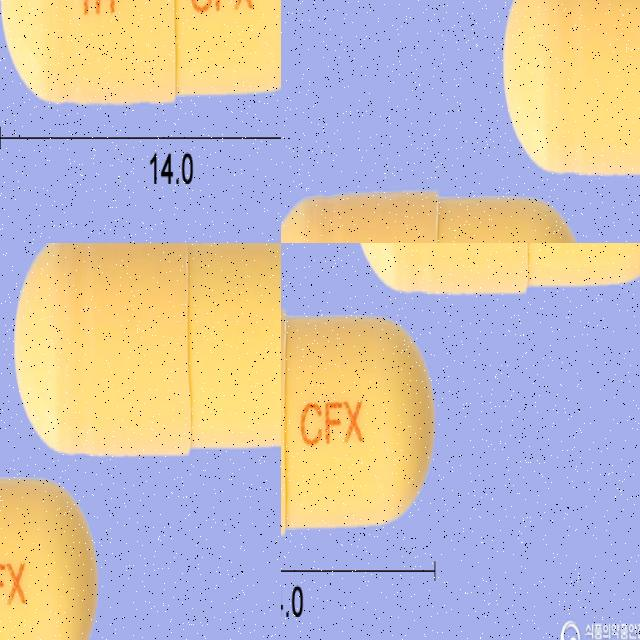Levoby: (24, 246, 281, 472)
Levoby - 500mg: (0, 0, 281, 101)
NT-fixime Cap: (281, 309, 435, 538), (350, 243, 640, 298)
